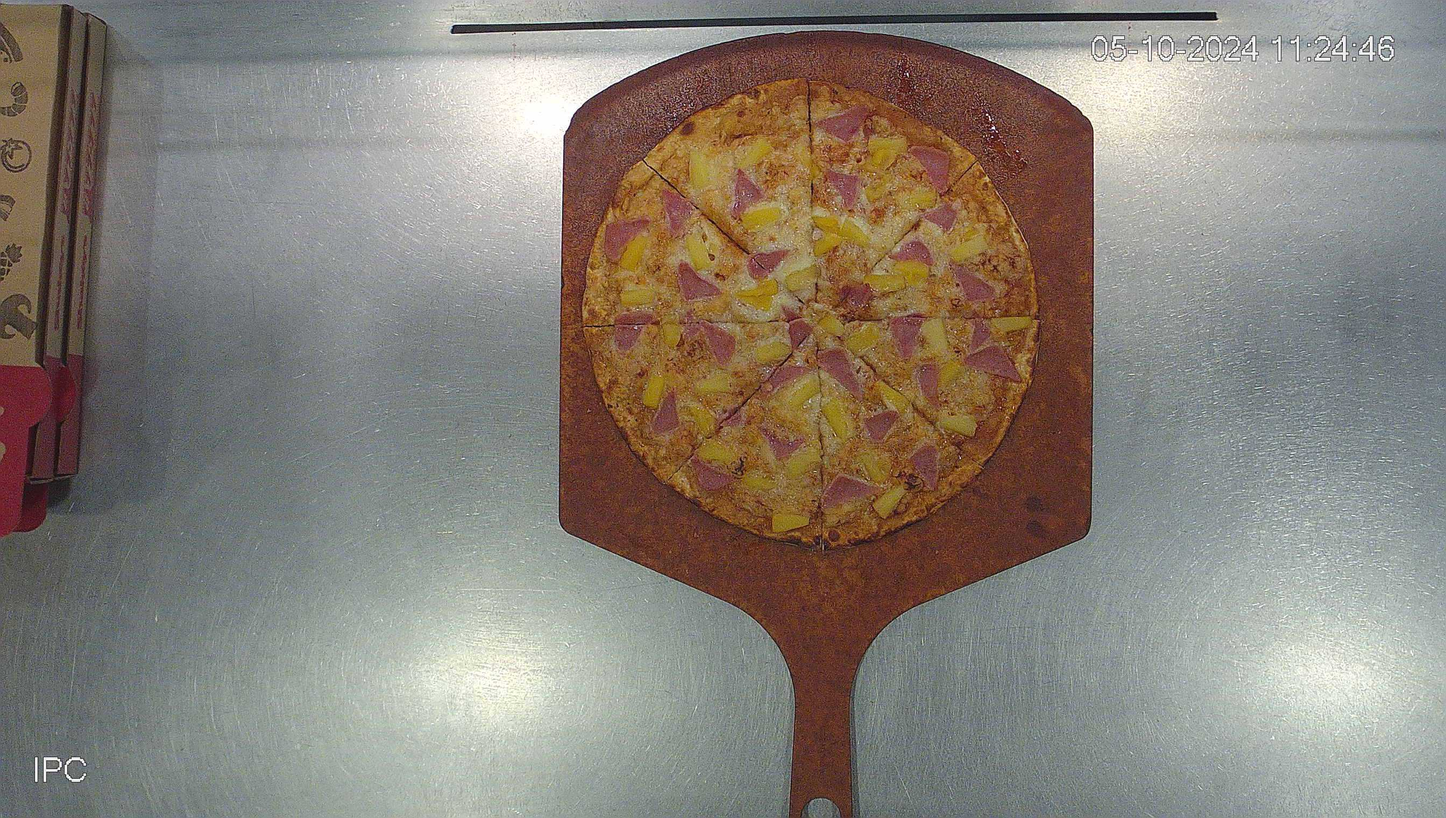manager_choice: (579, 76, 1041, 552)
